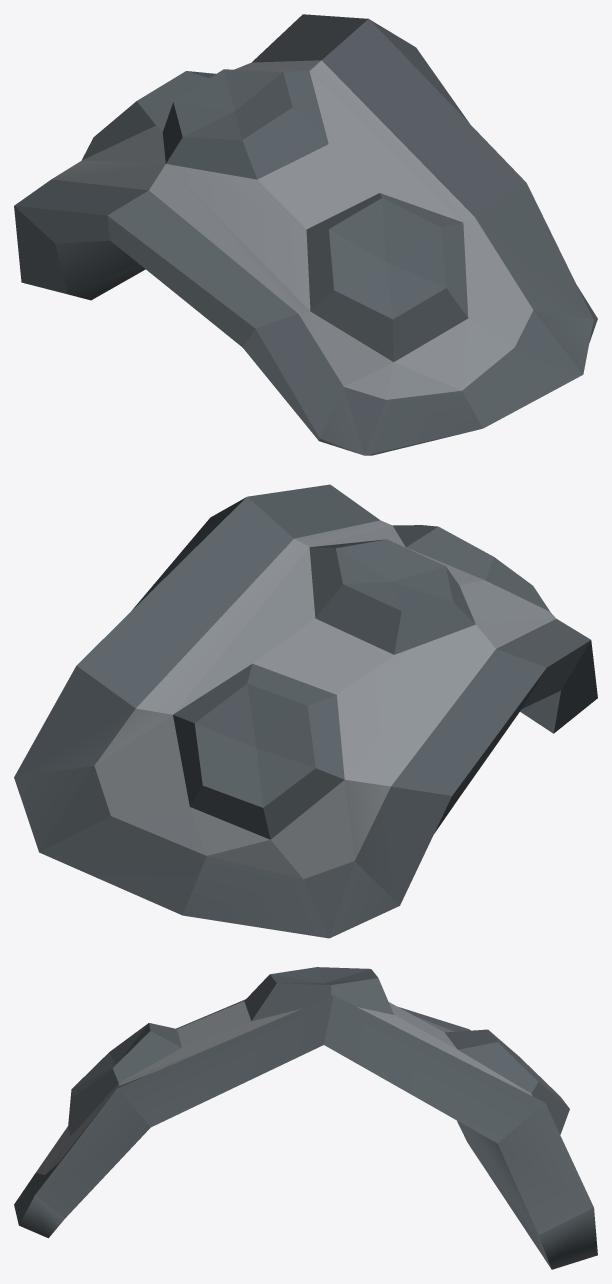
File: Chr_ShoulderAttachRight_01_Static.fbx
3 renders of one model, top to bottom at view 1: azimuth 30°, elevation 25°; view 2: azimuth 150°, elevation 25°; view 3: azimuth 270°, elevation 25°, orthographic. The views are drawn at different scales.
Visible parts, largest first — view 1: Chr_ShoulderAttachRight_01_Static; view 2: Chr_ShoulderAttachRight_01_Static; view 3: Chr_ShoulderAttachRight_01_Static.
Part boxes in pixels (x1=…): Chr_ShoulderAttachRight_01_Static: x1=14, y1=14, x2=597, y2=455; Chr_ShoulderAttachRight_01_Static: x1=14, y1=484, x2=597, y2=938; Chr_ShoulderAttachRight_01_Static: x1=14, y1=967, x2=597, y2=1269.
Bounding box in the file's own units: 0.2304 × 0.1757 × 0.3391.
